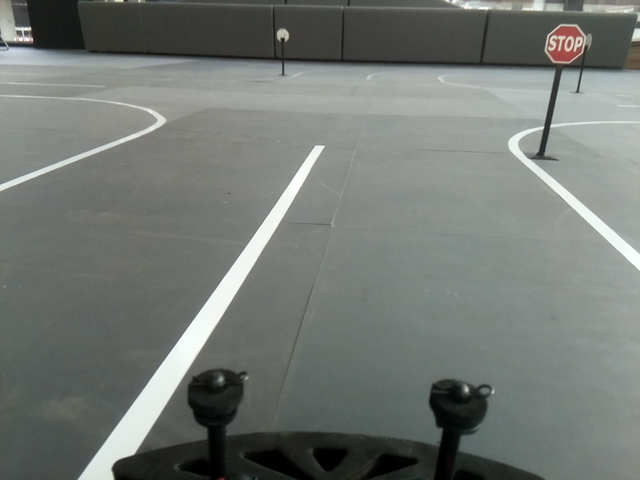stop: (544, 23, 587, 64)
